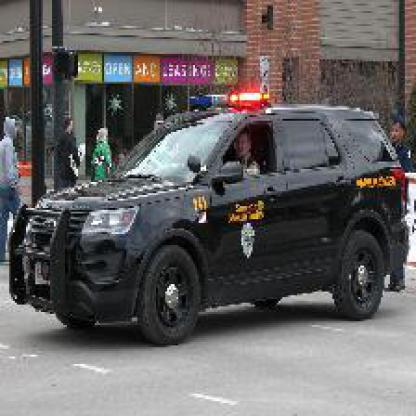emergency: (19, 95, 414, 344)
